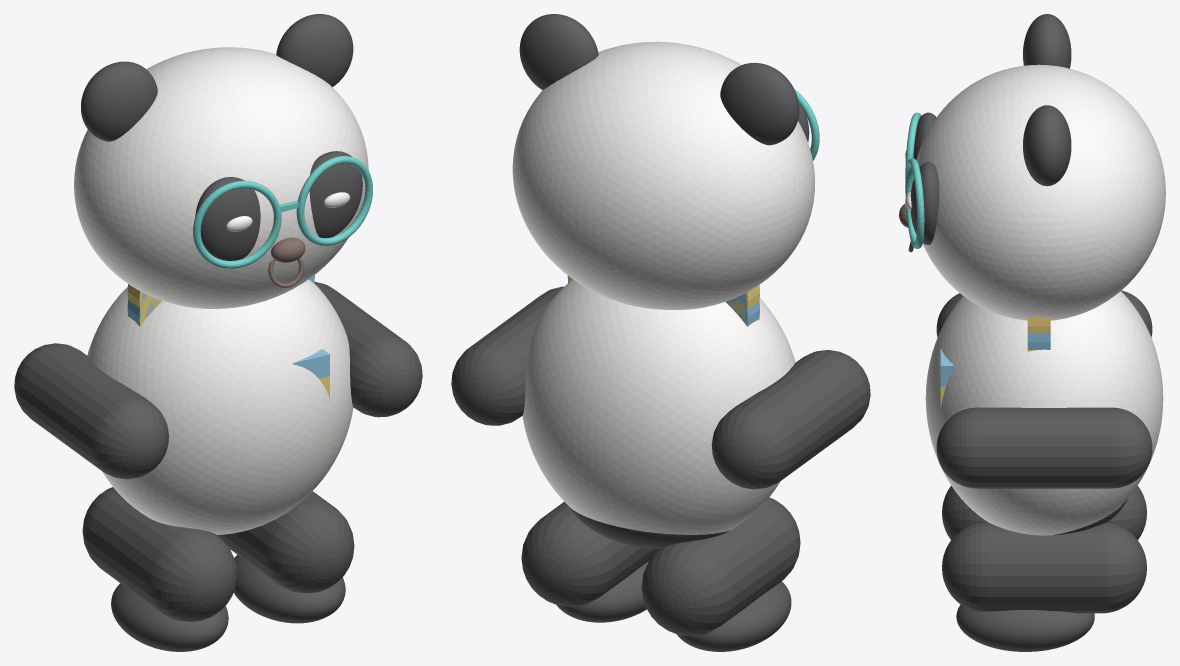
File: panda.glb
3 renders of one model, left to right at view 1: azimuth 30°, elevation 25°; view 2: azimuth 150°, elevation 25°; view 3: azimuth 270°, elevation 25°, orthographic. The views are drawn at different scales.
Parts seen in each view (by area): view 1: Skull, Body, Arm_L, Leg_L, Leg_R, Arm_R, Ear_L, Foot_L, Foot_R, Ear_R, EyePatch_L, EyePatch_R (+4 smaller); view 2: Skull, Body, Arm_L, Leg_L, Leg_R, Arm_R, Ear_L, Ear_R, Foot_L, Foot_R, Hips; view 3: Skull, Body, Arm_R, Leg_R, Foot_R, Ear_R, Leg_L, Ear_L, EyePatch_R, Glasses_R, Arm_L, EyePatch_L (+2 smaller).
Boxes of the visible parts, box(x1,y1,x2,y2) form: Skull: box(74, 47, 368, 308); Body: box(87, 279, 353, 534); Arm_L: box(14, 343, 168, 479); Leg_L: box(82, 487, 237, 621); Leg_R: box(217, 491, 354, 593); Arm_R: box(314, 281, 422, 417); Ear_L: box(81, 61, 157, 141); Foot_L: box(111, 583, 228, 651); Foot_R: box(233, 555, 345, 623); Ear_R: box(276, 14, 353, 86); EyePatch_L: box(195, 177, 260, 260); EyePatch_R: box(309, 151, 362, 238); Skull: box(512, 41, 814, 309); Body: box(522, 279, 795, 534); Arm_L: box(711, 350, 870, 489); Leg_L: box(641, 497, 800, 636); Leg_R: box(521, 501, 659, 606); Arm_R: box(451, 286, 563, 425); Ear_L: box(720, 63, 799, 145); Ear_R: box(519, 14, 598, 90); Foot_L: box(677, 581, 791, 651); Foot_R: box(556, 561, 648, 622); Hips: box(569, 506, 729, 548); Skull: box(913, 64, 1165, 320); Body: box(925, 291, 1163, 535); Arm_R: box(936, 407, 1152, 488); Leg_R: box(942, 522, 1146, 613); Foot_R: box(956, 604, 1094, 651); Ear_R: box(1023, 105, 1071, 186); Leg_L: box(942, 485, 1146, 539); Ear_L: box(1023, 14, 1071, 68); EyePatch_R: box(910, 162, 939, 244); Glasses_R: box(905, 158, 924, 248); Arm_L: box(936, 290, 1152, 337); EyePatch_L: box(913, 112, 936, 159).
Bounding box in the file's own units: 1.34 × 2.26 × 0.989.
